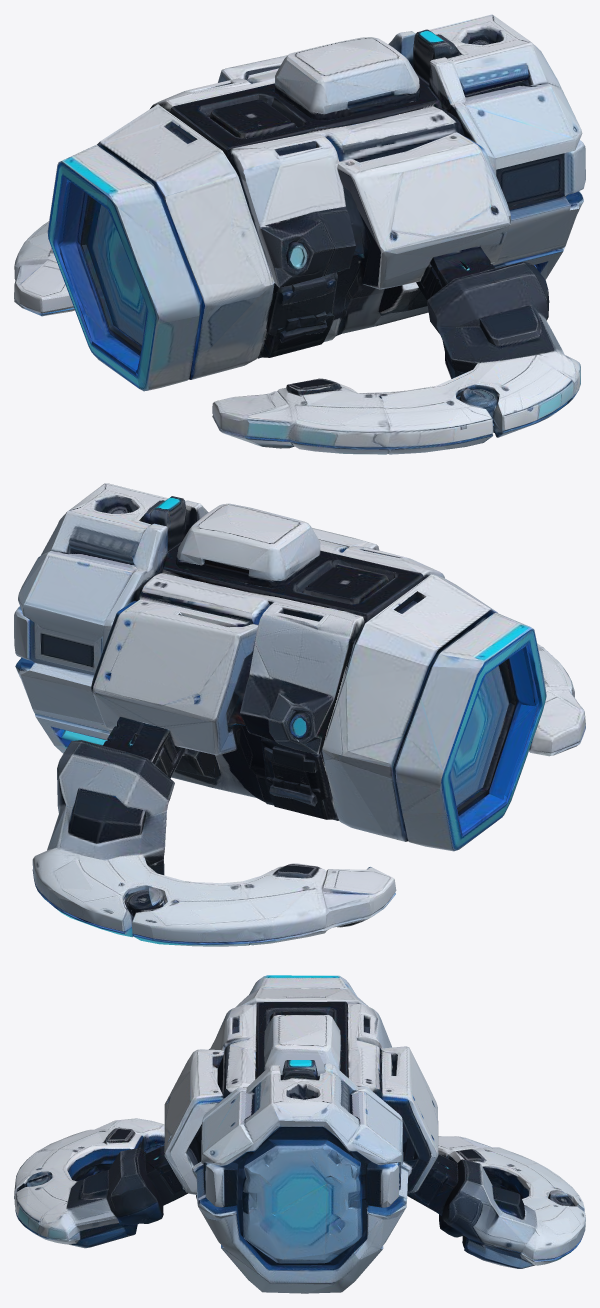
The model's file is d_shield.glb.
The picture shows the model from 3 angles, top to bottom: view 1: azimuth 30°, elevation 25°; view 2: azimuth 150°, elevation 25°; view 3: azimuth 270°, elevation 25°; orthographic projection. The views are drawn at different scales.
Size of the model in its own units: 1.36 by 0.822 by 1.9.
Materials: 1 (1 with a texture image).
